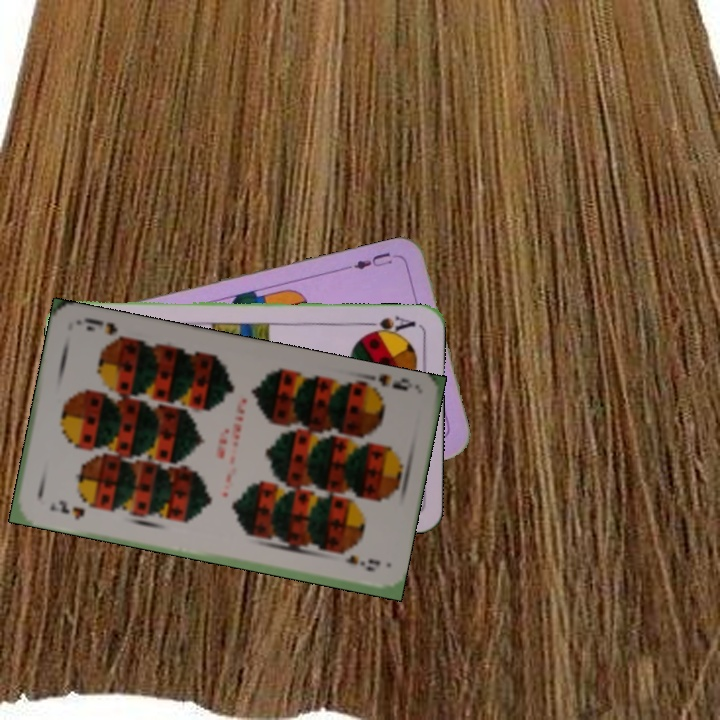EU: (344, 248, 395, 273)
S9: (358, 370, 415, 399), (46, 496, 88, 522)
SA: (359, 312, 418, 338)
